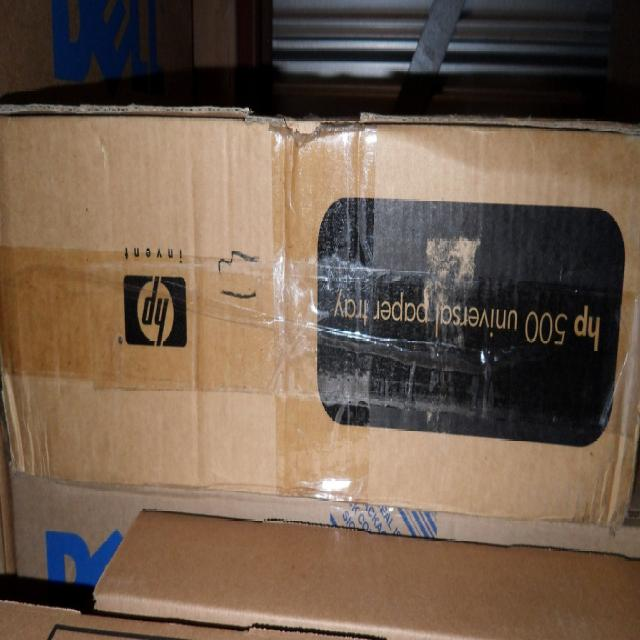HP: (122, 274, 190, 348)
